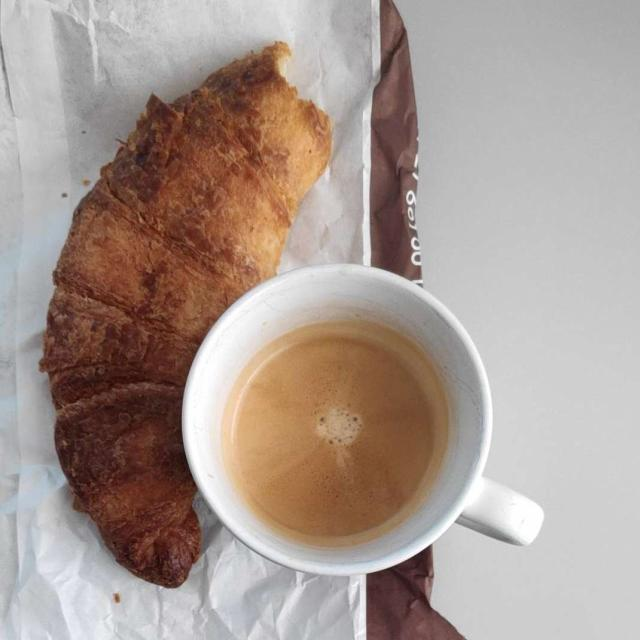coffee: (223, 326, 444, 538)
croissant: (46, 50, 316, 582)
